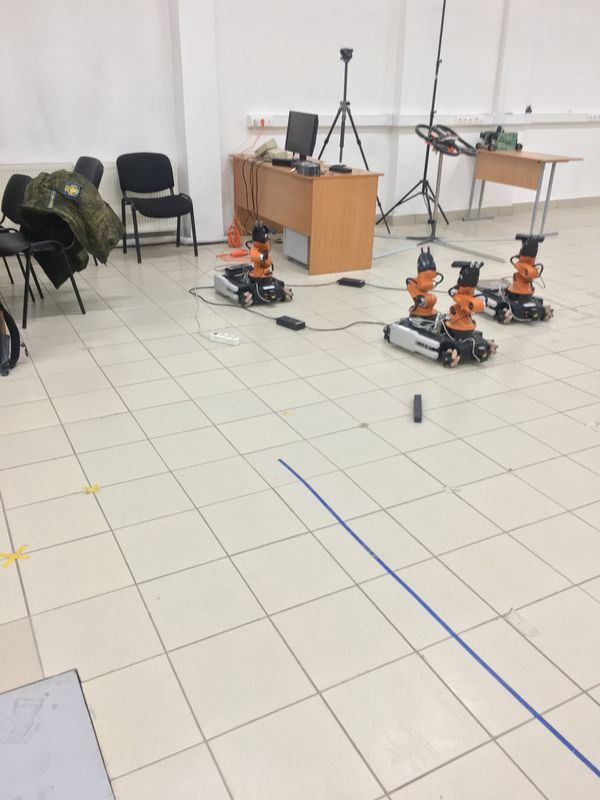socket: (207, 328, 245, 348)
